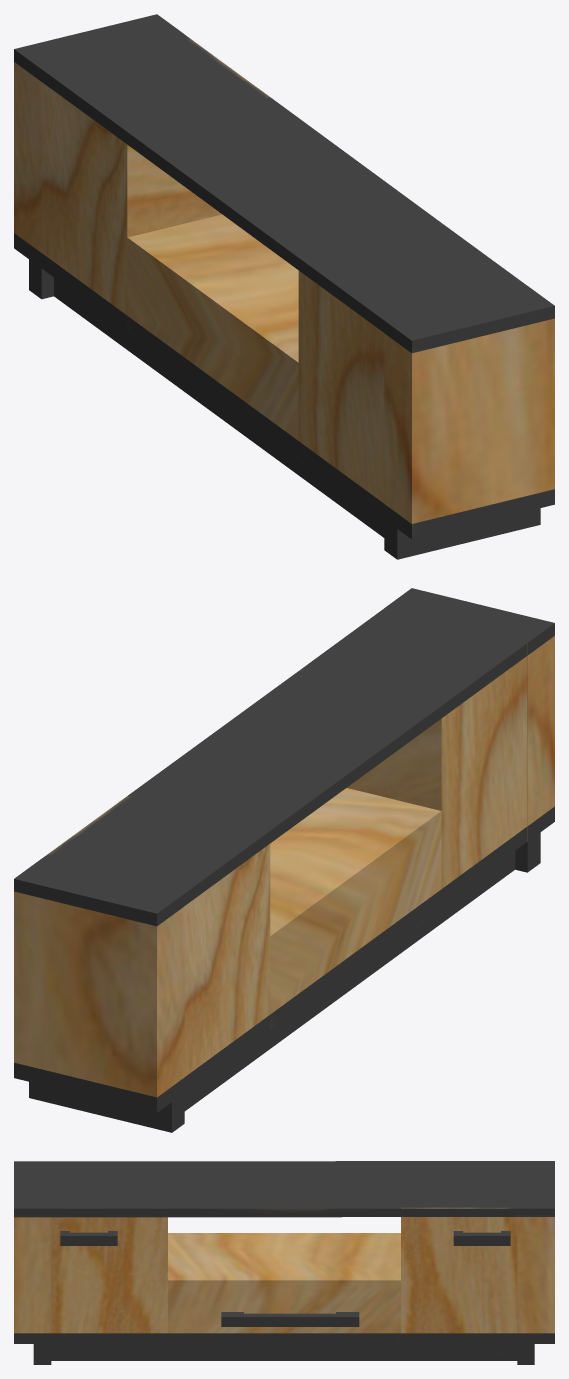
File: Szafka pod telefizor.fbx
3 renders of one model, top to bottom at view 1: azimuth 30°, elevation 25°; view 2: azimuth 150°, elevation 25°; view 3: azimuth 270°, elevation 25°, orthographic. The views are drawn at different scales.
Parts seen in each view (by area): view 1: Cube; view 2: Cube; view 3: Cube, Cube.004, Cube.001, Cube.003.
Part boxes in pixels (x1=…): Cube: x1=14, y1=14, x2=554, y2=559; Cube: x1=14, y1=588, x2=554, y2=1132; Cube: x1=14, y1=1161, x2=554, y2=1364; Cube.004: x1=221, y1=1312, x2=359, y2=1326; Cube.001: x1=60, y1=1231, x2=117, y2=1245; Cube.003: x1=453, y1=1231, x2=510, y2=1245.
Size of the model in its own units: 267 by 370 by 1160.
